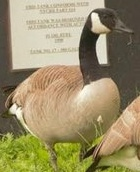goose: (3, 4, 137, 165)
